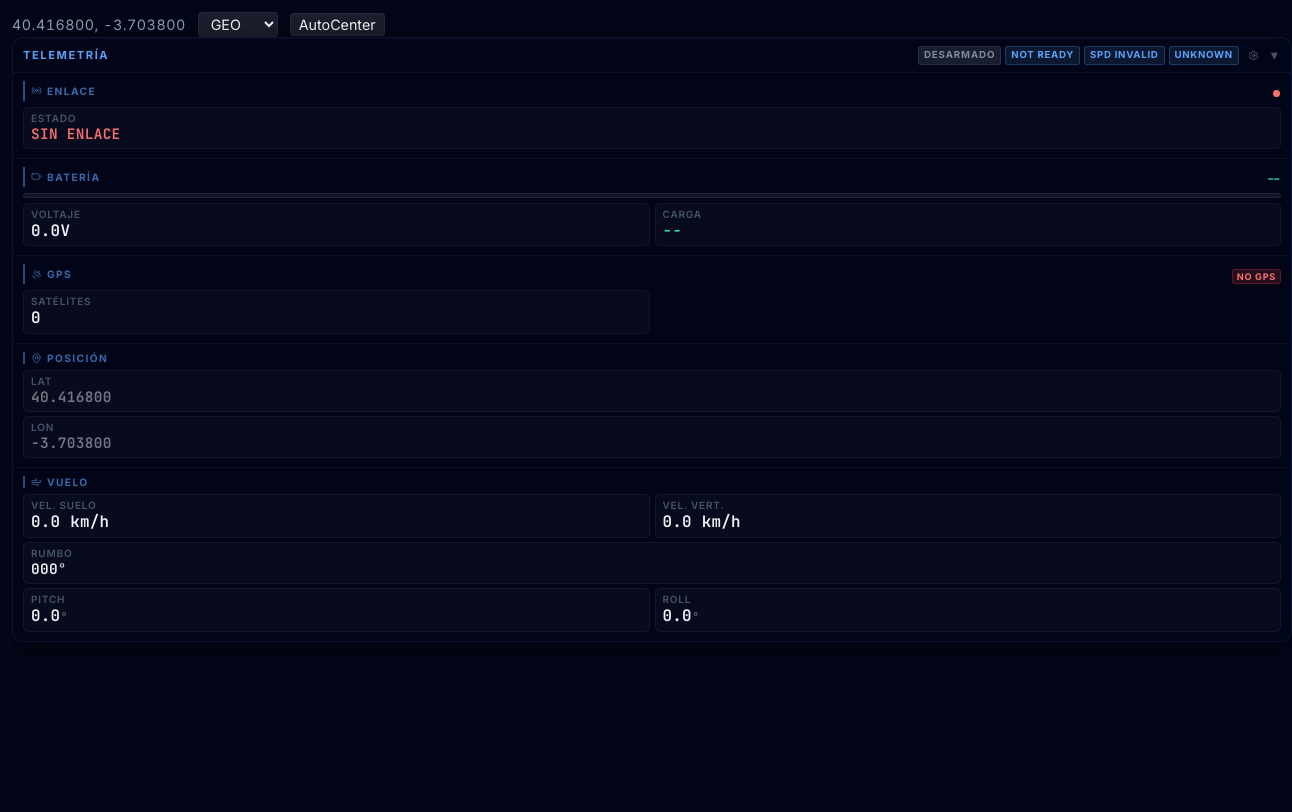
Scenario: coordinate format synchronization › updates the flight telemetry panel when the footer coordinate mode changes
The width and height of the screenshot is (1292, 812).
Select "MGRS" in the dropdown named "Coordinate format": {"x": 238, "y": 24} [198,12,278,37]
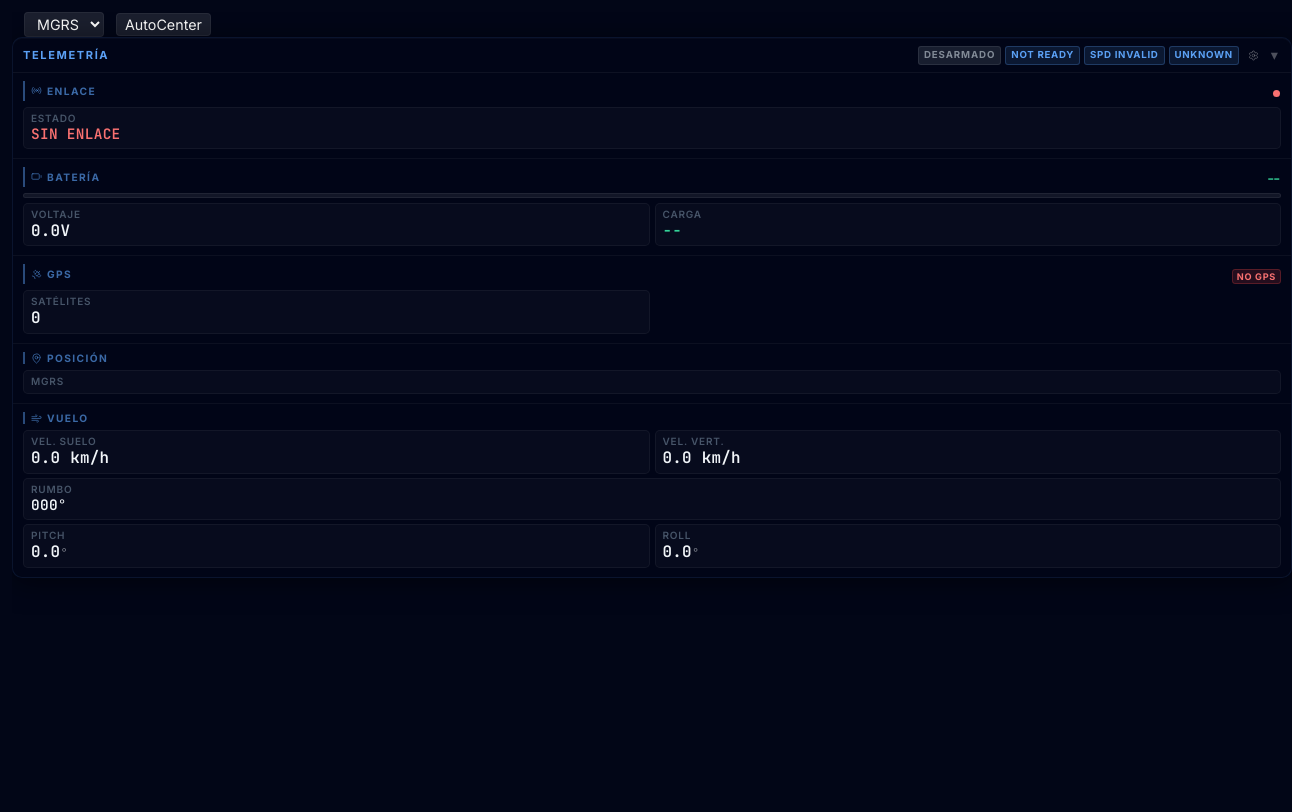
Now the text "40.416800" is gone
